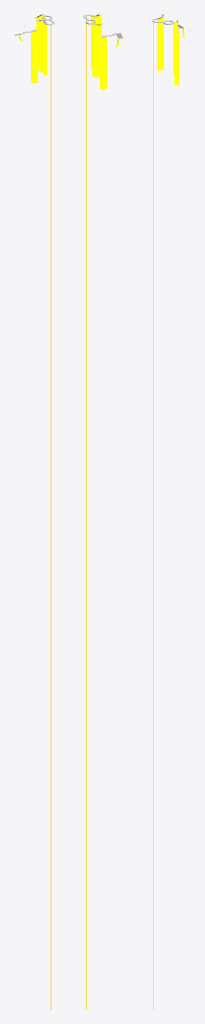
File: burgerimproved.fbx
3 views of the same model, side by side, from view 1: azimuth 30°, elevation 25°; view 2: azimuth 210°, elevation 25°; view 3: azimuth 270°, elevation 25° (orthographic).
Visible parts, largest first — view 1: Block_1x1x1 Instance, Instance.040, Instance.030, Instance.028; view 2: Block_1x1x1 Instance, Instance.040, Instance.021, Instance.019; view 3: Block_1x1x1 Instance, Instance.019, Instance.030, Block_1x1x1 Instance.001, Instance.040.
Boxes of the visible parts, x1=… form: Block_1x1x1 Instance: x1=50, y1=25, x2=51, y2=1009; Instance.040: x1=31, y1=30, x2=37, y2=83; Instance.030: x1=42, y1=21, x2=46, y2=75; Instance.028: x1=38, y1=21, x2=41, y2=72; Block_1x1x1 Instance: x1=86, y1=16, x2=86, y2=1009; Instance.040: x1=100, y1=37, x2=106, y2=90; Instance.021: x1=96, y1=25, x2=101, y2=77; Instance.019: x1=92, y1=24, x2=96, y2=77; Block_1x1x1 Instance: x1=153, y1=22, x2=153, y2=1009; Instance.019: x1=174, y1=22, x2=178, y2=74; Instance.030: x1=157, y1=18, x2=161, y2=71; Block_1x1x1 Instance.001: x1=161, y1=18, x2=163, y2=69; Instance.040: x1=174, y1=33, x2=179, y2=84.
Size of what is drawn, in the model's own units: 6000 by 191600 by 6800.
